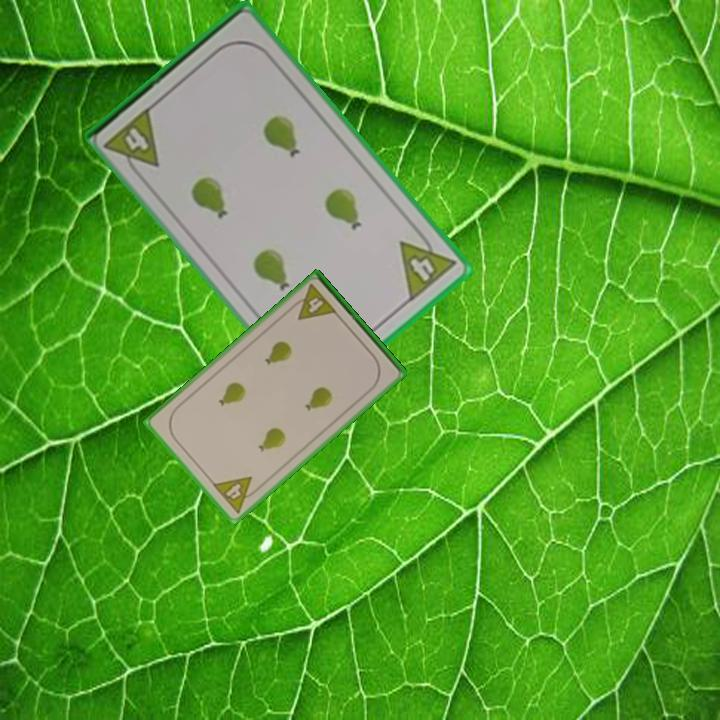4p: (396, 224, 459, 305), (101, 102, 163, 182), (209, 473, 263, 517), (287, 281, 340, 323)
